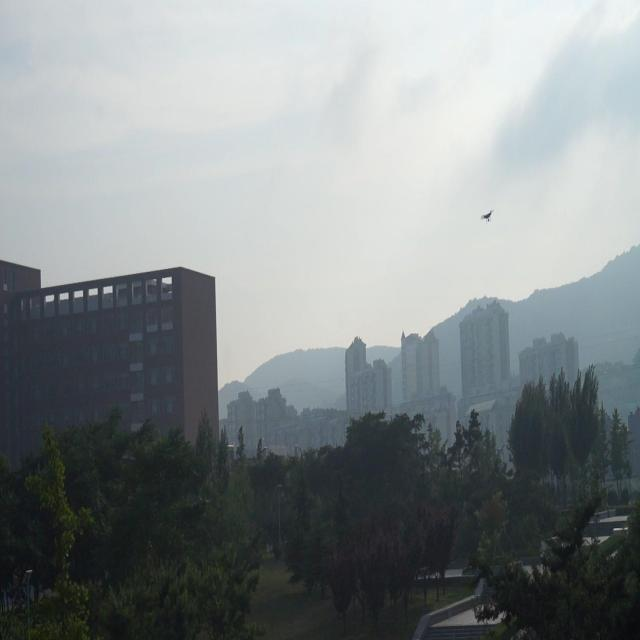UAV: (480, 209, 494, 224)
